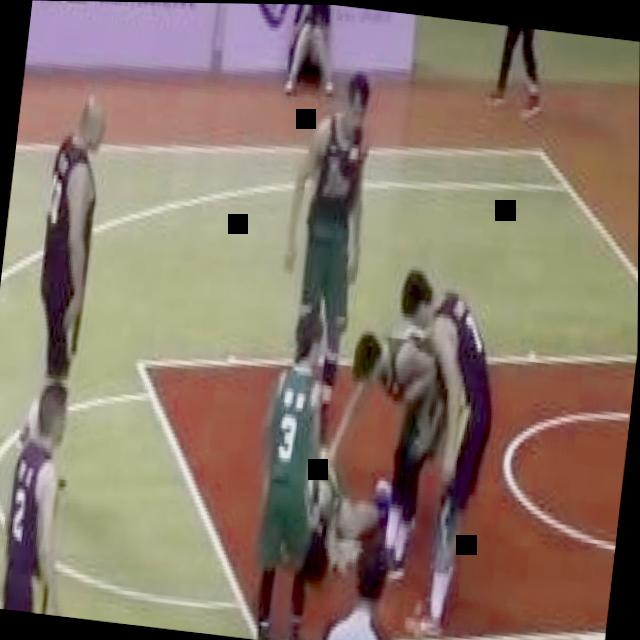Fall-Detected: (293, 433, 419, 578)
